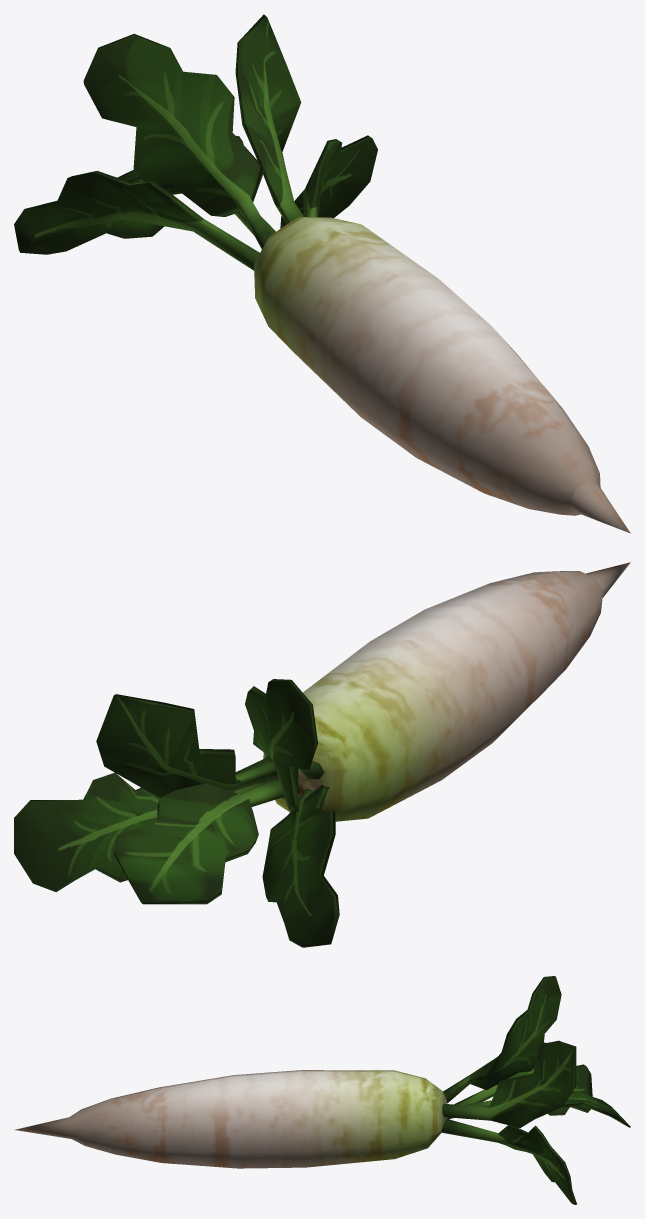
Rendered from Radish_Daikon.fbx.
The picture shows the model from 3 angles, top to bottom: view 1: azimuth 30°, elevation 25°; view 2: azimuth 150°, elevation 25°; view 3: azimuth 270°, elevation 25°; orthographic projection. The views are drawn at different scales.
Parts seen in each view (by area): view 1: Radish_Daikon; view 2: Radish_Daikon; view 3: Radish_Daikon.
Part boxes in pixels (bbox=[...]): Radish_Daikon: bbox=[14, 14, 630, 533]; Radish_Daikon: bbox=[14, 562, 630, 947]; Radish_Daikon: bbox=[14, 976, 630, 1204].
Size of the model in its own units: 74.98 by 54.35 by 184.
